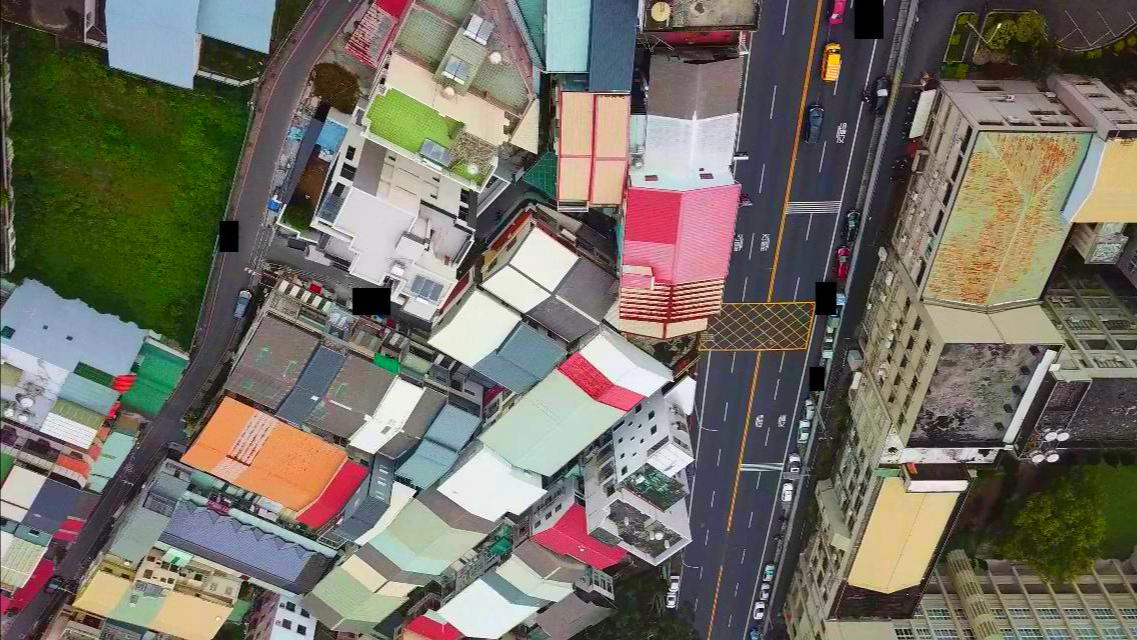vehicle: (801, 100, 826, 145), (819, 40, 841, 82), (871, 73, 891, 117), (840, 207, 859, 244), (232, 288, 253, 320), (833, 243, 851, 279), (42, 574, 61, 599), (802, 395, 819, 421), (795, 417, 811, 444), (781, 481, 793, 502), (762, 561, 774, 582), (752, 599, 764, 620), (669, 573, 681, 592), (666, 592, 677, 609), (760, 582, 770, 599)
